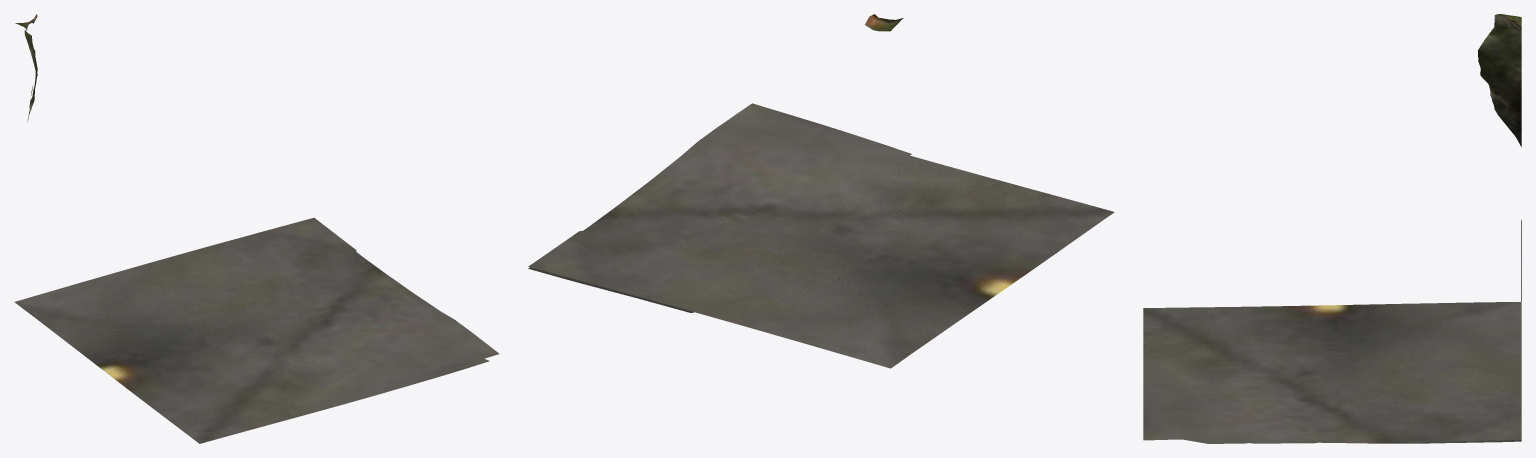
3 renders of one model, left to right at view 1: azimuth 30°, elevation 25°; view 2: azimuth 150°, elevation 25°; view 3: azimuth 270°, elevation 25°, orthographic. The views are drawn at different scales.
Size of the model in its own units: 1.72 by 1.91 by 1.84.
1 material, 1 textured.
